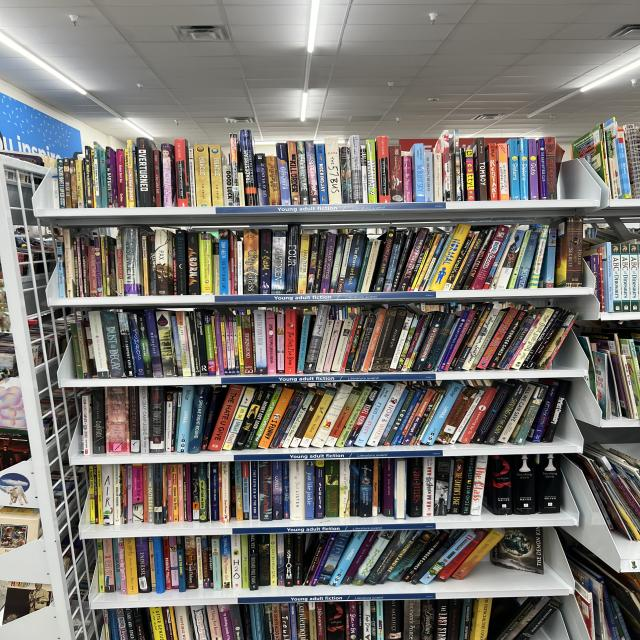book: (365, 511, 450, 606), (376, 521, 449, 598), (435, 522, 507, 591), (392, 386, 458, 459), (354, 222, 411, 300), (323, 384, 383, 453), (300, 377, 353, 455), (446, 300, 496, 375), (387, 386, 444, 451), (350, 527, 406, 593), (255, 385, 307, 456), (487, 306, 539, 376), (418, 528, 478, 588), (362, 380, 413, 449), (443, 228, 493, 298), (507, 305, 557, 373), (168, 231, 219, 296), (350, 381, 398, 449), (434, 525, 489, 584), (222, 385, 267, 457), (427, 221, 471, 294), (401, 527, 452, 589), (469, 223, 512, 294), (338, 406, 358, 557), (408, 227, 451, 297), (470, 380, 515, 446), (420, 379, 463, 448), (338, 383, 381, 451), (324, 386, 368, 452), (252, 384, 295, 451), (462, 307, 505, 374), (476, 306, 519, 372), (435, 305, 476, 374), (206, 383, 245, 454), (485, 382, 527, 445), (202, 230, 242, 294), (498, 382, 538, 446), (299, 385, 338, 450), (409, 310, 448, 373), (338, 528, 379, 587), (196, 231, 234, 294), (421, 311, 459, 374), (525, 380, 562, 444), (482, 454, 519, 516), (483, 225, 517, 292), (369, 225, 402, 293), (483, 225, 517, 291), (397, 226, 430, 294), (216, 315, 253, 374), (459, 387, 497, 444), (314, 529, 352, 586), (329, 531, 368, 586), (391, 313, 425, 374), (540, 379, 571, 444), (326, 315, 360, 374), (302, 304, 330, 374), (322, 232, 353, 294), (598, 119, 622, 199), (224, 314, 255, 375), (530, 453, 561, 514), (207, 313, 237, 376), (125, 312, 153, 379), (423, 141, 453, 201), (355, 238, 387, 294), (361, 308, 388, 373), (259, 411, 298, 456), (339, 232, 367, 294), (512, 229, 540, 291), (186, 385, 210, 455), (105, 387, 130, 453), (238, 129, 259, 207), (611, 125, 633, 199), (80, 235, 106, 297), (74, 237, 101, 296), (96, 236, 122, 296), (68, 147, 93, 209), (134, 137, 156, 207), (121, 226, 143, 296), (227, 315, 253, 374), (527, 224, 550, 289), (306, 232, 330, 294), (188, 310, 210, 375), (512, 455, 536, 514), (155, 311, 176, 377), (323, 136, 343, 204), (165, 465, 189, 521), (192, 144, 213, 208), (89, 311, 109, 378), (95, 235, 116, 297), (281, 309, 301, 374), (623, 124, 640, 198), (59, 229, 77, 297), (283, 224, 300, 293), (565, 218, 582, 287), (117, 312, 135, 377), (154, 230, 172, 295), (315, 318, 336, 373), (88, 236, 107, 296), (81, 238, 100, 298), (63, 158, 85, 209), (354, 237, 374, 293), (208, 145, 226, 207), (197, 233, 215, 295), (90, 390, 107, 454), (540, 228, 558, 288), (319, 234, 337, 293), (123, 140, 139, 206), (243, 229, 259, 294), (304, 140, 320, 205), (459, 455, 476, 516), (160, 391, 177, 451), (348, 135, 363, 203), (473, 138, 489, 200), (271, 231, 287, 293), (70, 324, 88, 379), (406, 459, 423, 517), (150, 387, 165, 452), (286, 140, 301, 205), (375, 137, 390, 202), (98, 465, 114, 525), (72, 237, 88, 297), (599, 243, 613, 311), (185, 232, 200, 295), (175, 139, 189, 206), (228, 134, 241, 206), (543, 137, 558, 199), (506, 139, 521, 200), (525, 139, 540, 200), (449, 457, 465, 514), (89, 143, 103, 208), (253, 310, 267, 374), (296, 141, 310, 205), (289, 461, 304, 520), (338, 146, 353, 204), (609, 245, 622, 311), (472, 455, 488, 508), (259, 229, 272, 294), (324, 461, 339, 517), (124, 538, 139, 594), (175, 231, 188, 295), (381, 458, 395, 517), (365, 140, 378, 203), (135, 538, 150, 592), (230, 233, 243, 295), (82, 146, 95, 208), (358, 460, 372, 517), (183, 536, 198, 589), (389, 146, 403, 202), (68, 159, 84, 208), (152, 537, 166, 593), (315, 144, 328, 204), (254, 154, 269, 206), (129, 388, 141, 452), (259, 462, 272, 521), (218, 463, 231, 522), (266, 155, 281, 206), (265, 312, 277, 375), (412, 143, 425, 201), (128, 145, 140, 206), (497, 144, 510, 200), (517, 139, 529, 199), (422, 457, 434, 517), (232, 463, 244, 521), (629, 242, 639, 311), (132, 465, 144, 522), (116, 538, 128, 594), (82, 394, 93, 454), (97, 147, 108, 207), (230, 534, 242, 588), (272, 461, 283, 519), (314, 461, 325, 519), (258, 534, 270, 587), (167, 537, 179, 589), (200, 536, 212, 588), (488, 144, 499, 200), (211, 535, 222, 590), (537, 139, 547, 199), (349, 462, 360, 516), (423, 152, 435, 201), (432, 153, 444, 201), (248, 534, 258, 591), (113, 465, 122, 525), (105, 148, 114, 207), (221, 535, 231, 588), (94, 466, 103, 524), (359, 144, 368, 202), (465, 150, 475, 201), (223, 160, 234, 206), (56, 159, 66, 208), (276, 312, 284, 373), (446, 460, 455, 513), (269, 534, 278, 587), (145, 464, 153, 523), (283, 464, 291, 518), (241, 535, 249, 588), (126, 465, 133, 524), (121, 465, 128, 524), (85, 163, 94, 206), (237, 172, 245, 206), (211, 541, 214, 553)
